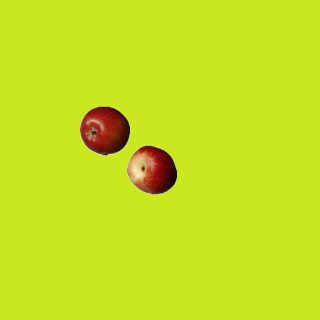Apple Braeburn: (79, 105, 129, 155)
Nectarine: (126, 144, 176, 194)
